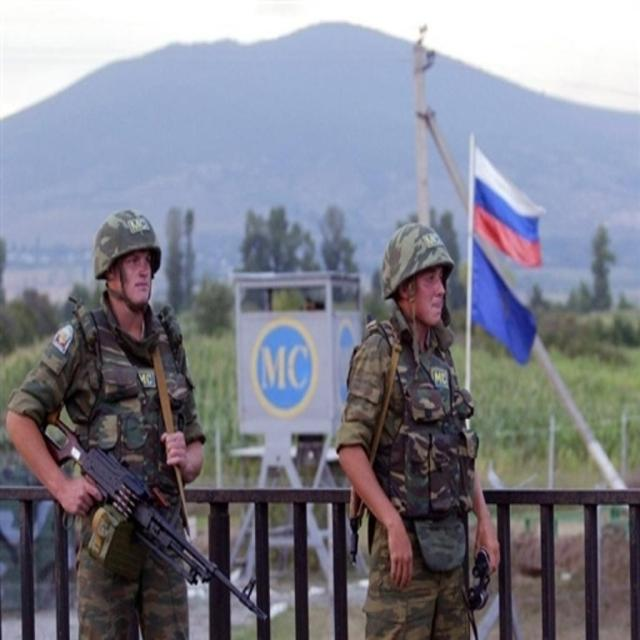Face: (400, 263, 452, 322), (109, 250, 156, 313)
